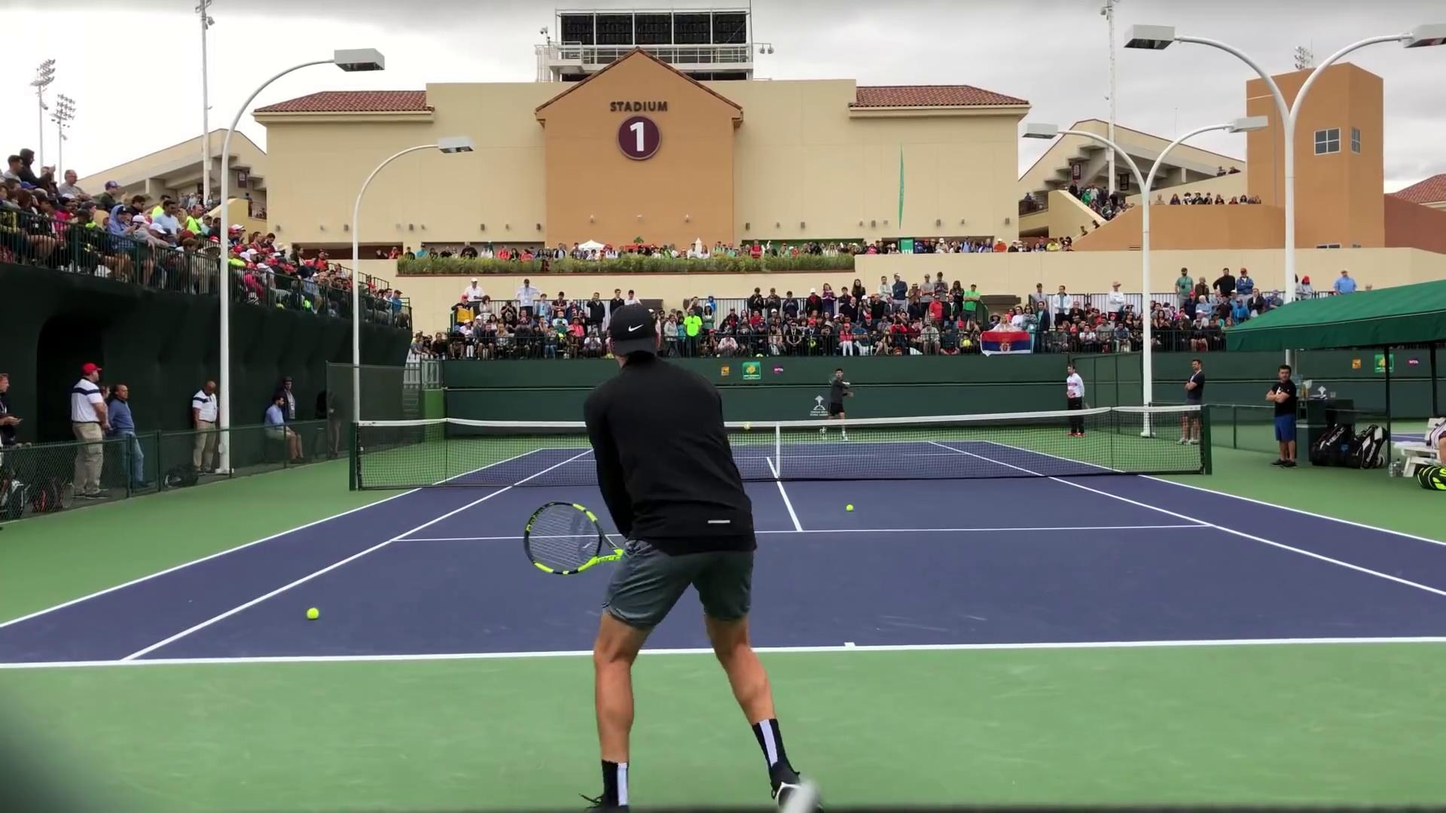ball: (305, 607, 319, 620), (742, 423, 751, 431), (847, 503, 854, 512)
